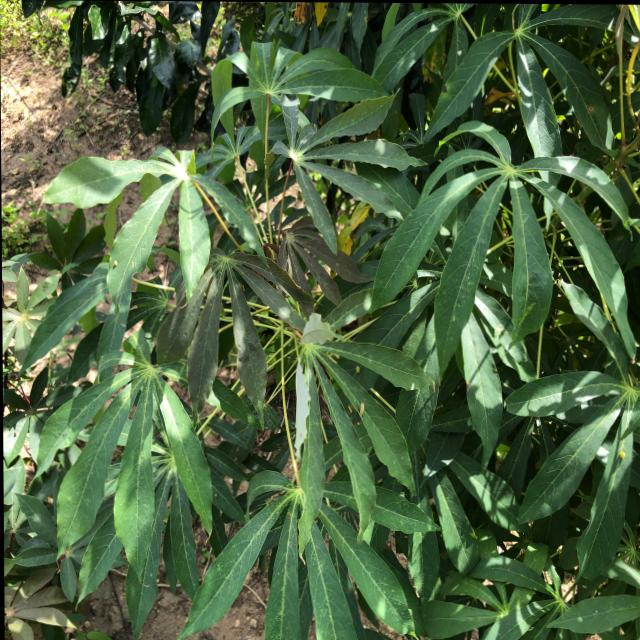Mosca: (346, 395, 370, 425), (349, 357, 365, 385), (614, 442, 632, 464), (107, 252, 122, 268), (575, 610, 588, 626), (209, 487, 222, 503)
